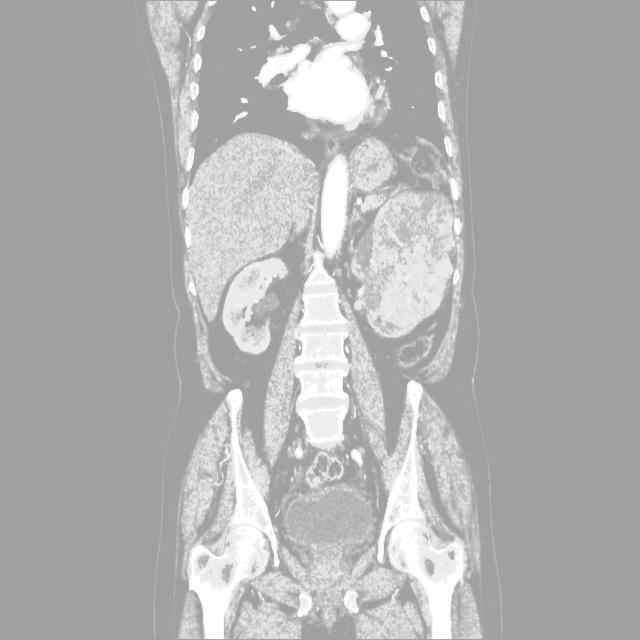TUMOR: (87, 166, 514, 340)
